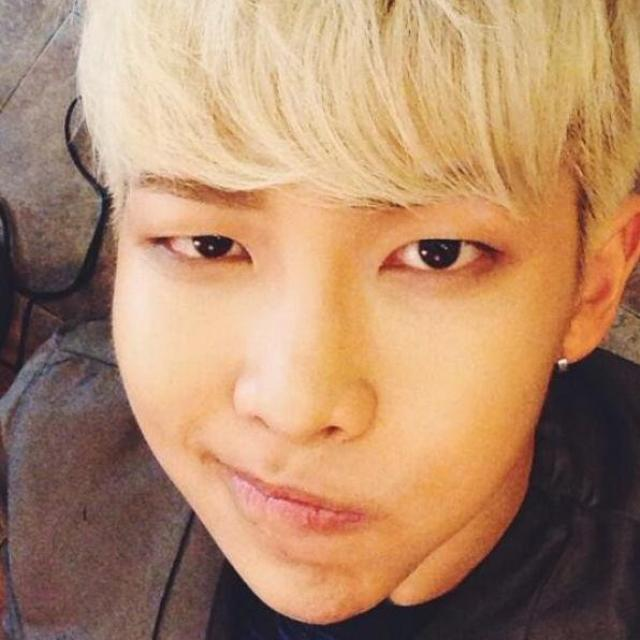Depress: (109, 147, 588, 620)
